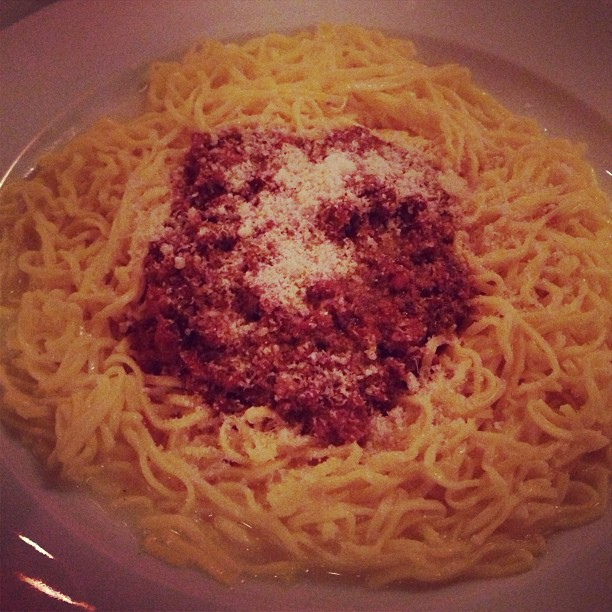plain spaghetti: (12, 27, 608, 584)
